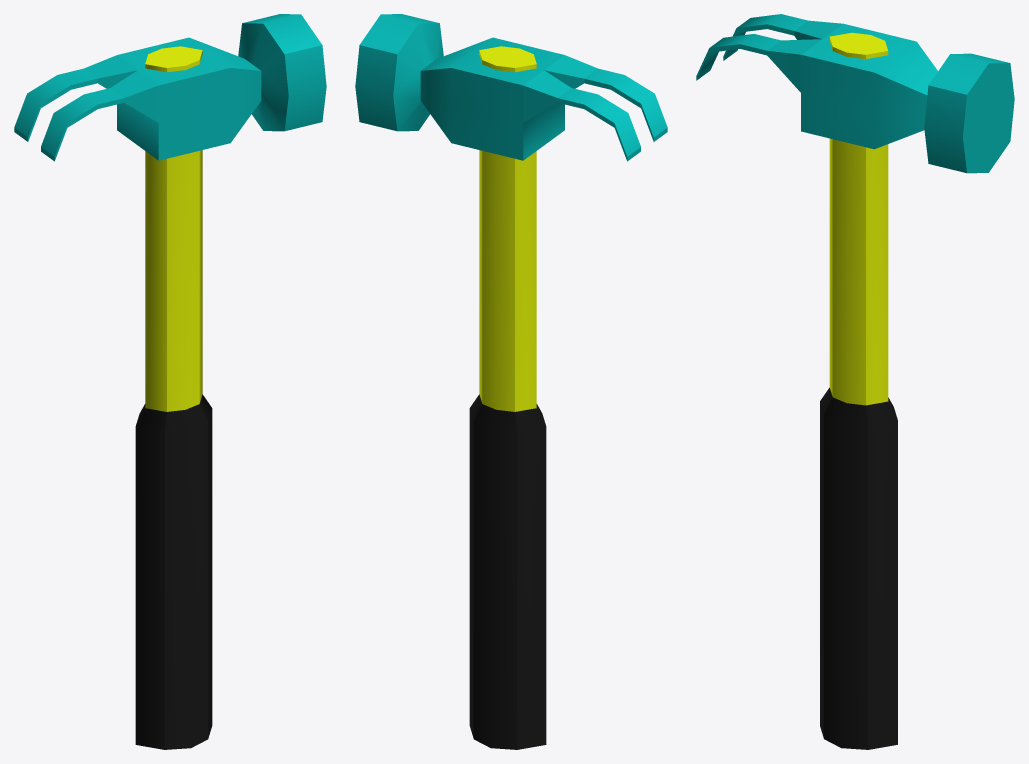
File: HammerTexture.obj
3 views of the same model, side by side, from view 1: azimuth 30°, elevation 25°; view 2: azimuth 150°, elevation 25°; view 3: azimuth 330°, elevation 25° (orthographic).
Visible parts, largest first — view 1: pCube3; view 2: pCube3; view 3: pCube3.
Boxes of the visible parts, left/top/right/bottom form: pCube3: left=14, top=14, right=326, bottom=749; pCube3: left=355, top=14, right=667, bottom=749; pCube3: left=696, top=14, right=1014, bottom=749.
Size of the model in its own units: 6.14 by 15.18 by 2.03.
